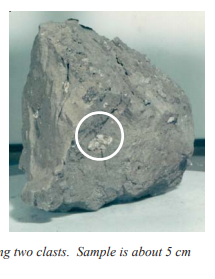Breccia: (17, 11, 191, 219)
